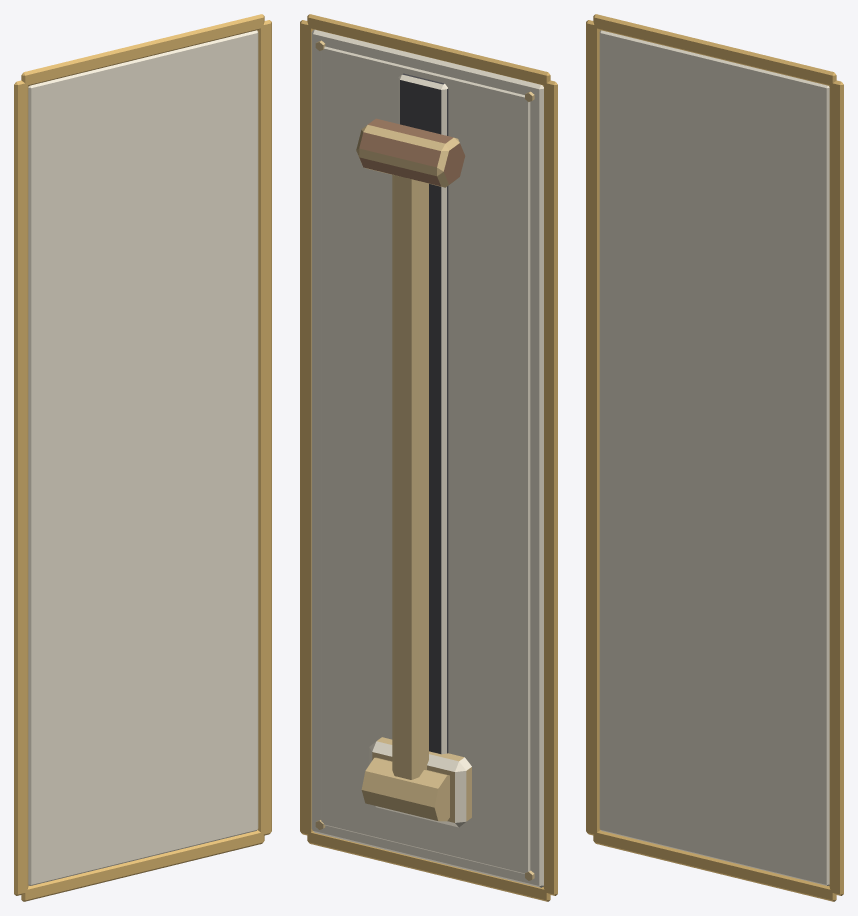
File: Ctl_Lever_1x3.fbx
3 renders of one model, left to right at view 1: azimuth 30°, elevation 25°; view 2: azimuth 150°, elevation 25°; view 3: azimuth 330°, elevation 25°, orthographic.
Parts seen in each view (by area): view 1: Ctl_Lever_1x3, Ctl_Lever_1x3_Frame; view 2: Ctl_Lever_1x3, Moving.005, Ctl_Lever_1x3_Frame; view 3: Ctl_Lever_1x3, Ctl_Lever_1x3_Frame.
Part boxes in pixels (x1=…): Ctl_Lever_1x3: x1=28, y1=30, x2=258, y2=885; Ctl_Lever_1x3_Frame: x1=14, y1=14, x2=271, y2=901; Ctl_Lever_1x3: x1=311, y1=29, x2=543, y2=887; Moving.005: x1=356, y1=118, x2=465, y2=821; Ctl_Lever_1x3_Frame: x1=300, y1=14, x2=557, y2=901; Ctl_Lever_1x3: x1=599, y1=30, x2=829, y2=885; Ctl_Lever_1x3_Frame: x1=586, y1=14, x2=843, y2=901.
Size of the model in its own units: 1.06 by 3.26 by 0.23.
